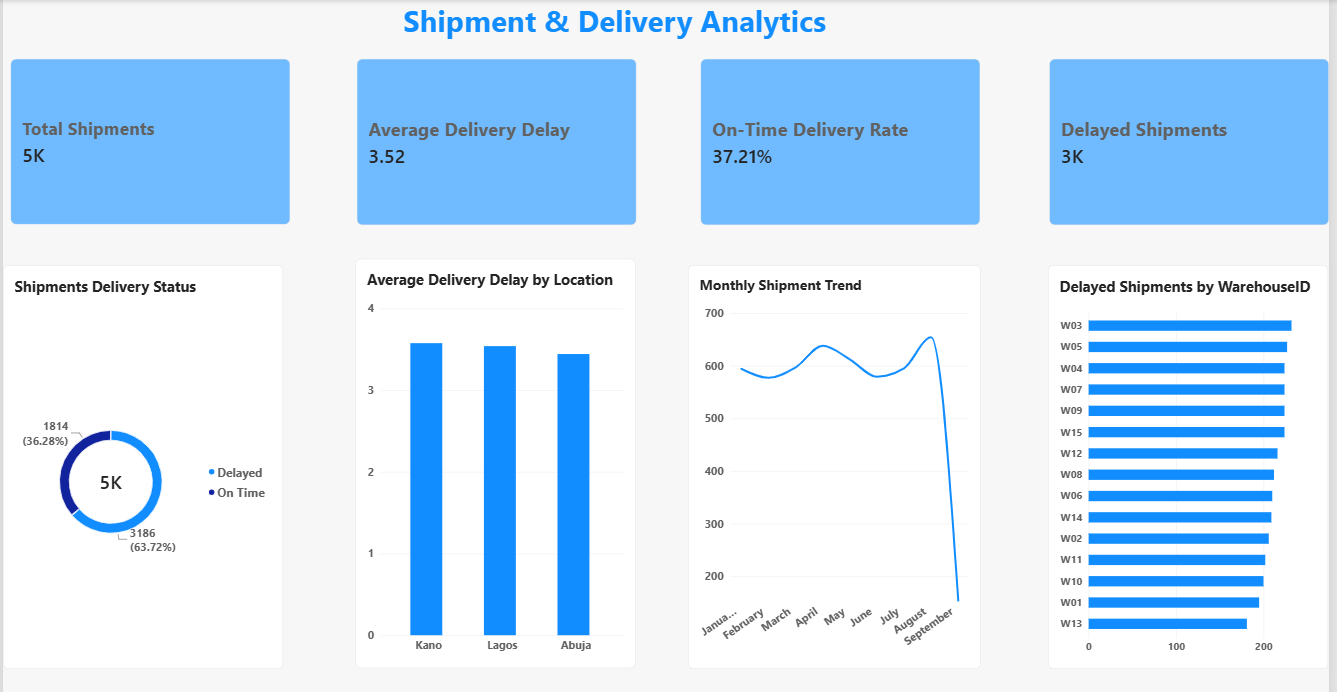

The dashboard page shown, as its layout file describes it:
{"tool":"powerbi","page":{"name":"Shipment & Delivery Analytics","canvas":[1920,1080],"ordinal":4},"visuals":[{"type":"textbox","box":[10.3,0,1749.6,84.4],"z":0},{"type":"cardVisual","fields":{"Data":["SwiftLog_Shipments.Total Shipments"]},"box":[10.3,84.4,405.5,240.8],"z":1},{"type":"cardVisual","fields":{"Data":["SwiftLog_Shipments.Average Delivery Delay"]},"box":[512.5,84.4,405,241],"z":2},{"type":"cardVisual","fields":{"Data":["SwiftLog_Shipments.On-Time Delivery Rate"]},"box":[1010.6,84.4,405,241],"z":3},{"type":"cardVisual","fields":{"Data":["SwiftLog_Shipments.Delayed Shipments"]},"box":[1514.9,84.4,405,241],"z":4},{"type":"donutChart","title":"Shipments Delivery Status","fields":{"Category":["SwiftLog_Shipments.Delivery Status"],"Y":["SwiftLog_Shipments.Total Shipments"]},"box":[0,382.8,405.5,584.6],"z":5},{"type":"clusteredColumnChart","fields":{"Category":["SwiftLog_Warehouses.Location"],"Y":["SwiftLog_Shipments.Average Delivery Delay"]},"box":[510.5,374.6,405.5,592.8],"z":6},{"type":"clusteredBarChart","fields":{"Category":["SwiftLog_Warehouses.WarehouseID"],"Y":["SwiftLog_Shipments.Delayed Shipments"]},"box":[1512.9,382.8,405.5,584.6],"z":7},{"type":"lineChart","title":"Monthly Shipment Trend","fields":{"Category":["DateTable.Month"],"Y":["SwiftLog_Shipments.Total Shipments"]},"box":[992.1,382.8,424,584.6],"z":8}]}

Visuals, with their boxes on the page's 1920x1080 design canvas (x1, y1, x2, y2). These are canvas units, not pixel positions in the 1337x692 screenshot, which may show the page scaled, cropped or inside an application window:
textbox: (x1=10, y1=0, x2=1760, y2=84)
cardVisual - SwiftLog_Shipments.Total Shipments: (x1=10, y1=84, x2=416, y2=325)
cardVisual - SwiftLog_Shipments.Average Delivery Delay: (x1=512, y1=84, x2=918, y2=325)
cardVisual - SwiftLog_Shipments.On-Time Delivery Rate: (x1=1011, y1=84, x2=1416, y2=325)
cardVisual - SwiftLog_Shipments.Delayed Shipments: (x1=1515, y1=84, x2=1920, y2=325)
"Shipments Delivery Status" donutChart: (x1=0, y1=383, x2=406, y2=967)
clusteredColumnChart - SwiftLog_Warehouses.Location x SwiftLog_Shipments.Average Delivery Delay: (x1=510, y1=375, x2=916, y2=967)
clusteredBarChart - SwiftLog_Warehouses.WarehouseID x SwiftLog_Shipments.Delayed Shipments: (x1=1513, y1=383, x2=1918, y2=967)
"Monthly Shipment Trend" lineChart: (x1=992, y1=383, x2=1416, y2=967)
